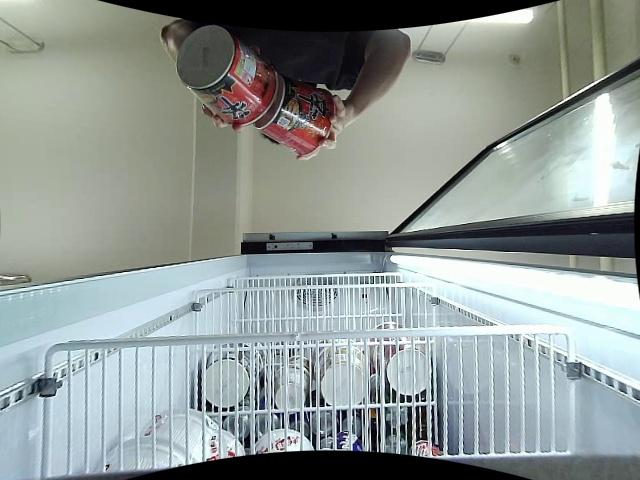00_hand: (293, 94, 353, 163), (199, 103, 246, 135)
01_shinRamen_L: (174, 25, 273, 125), (275, 79, 336, 157)
